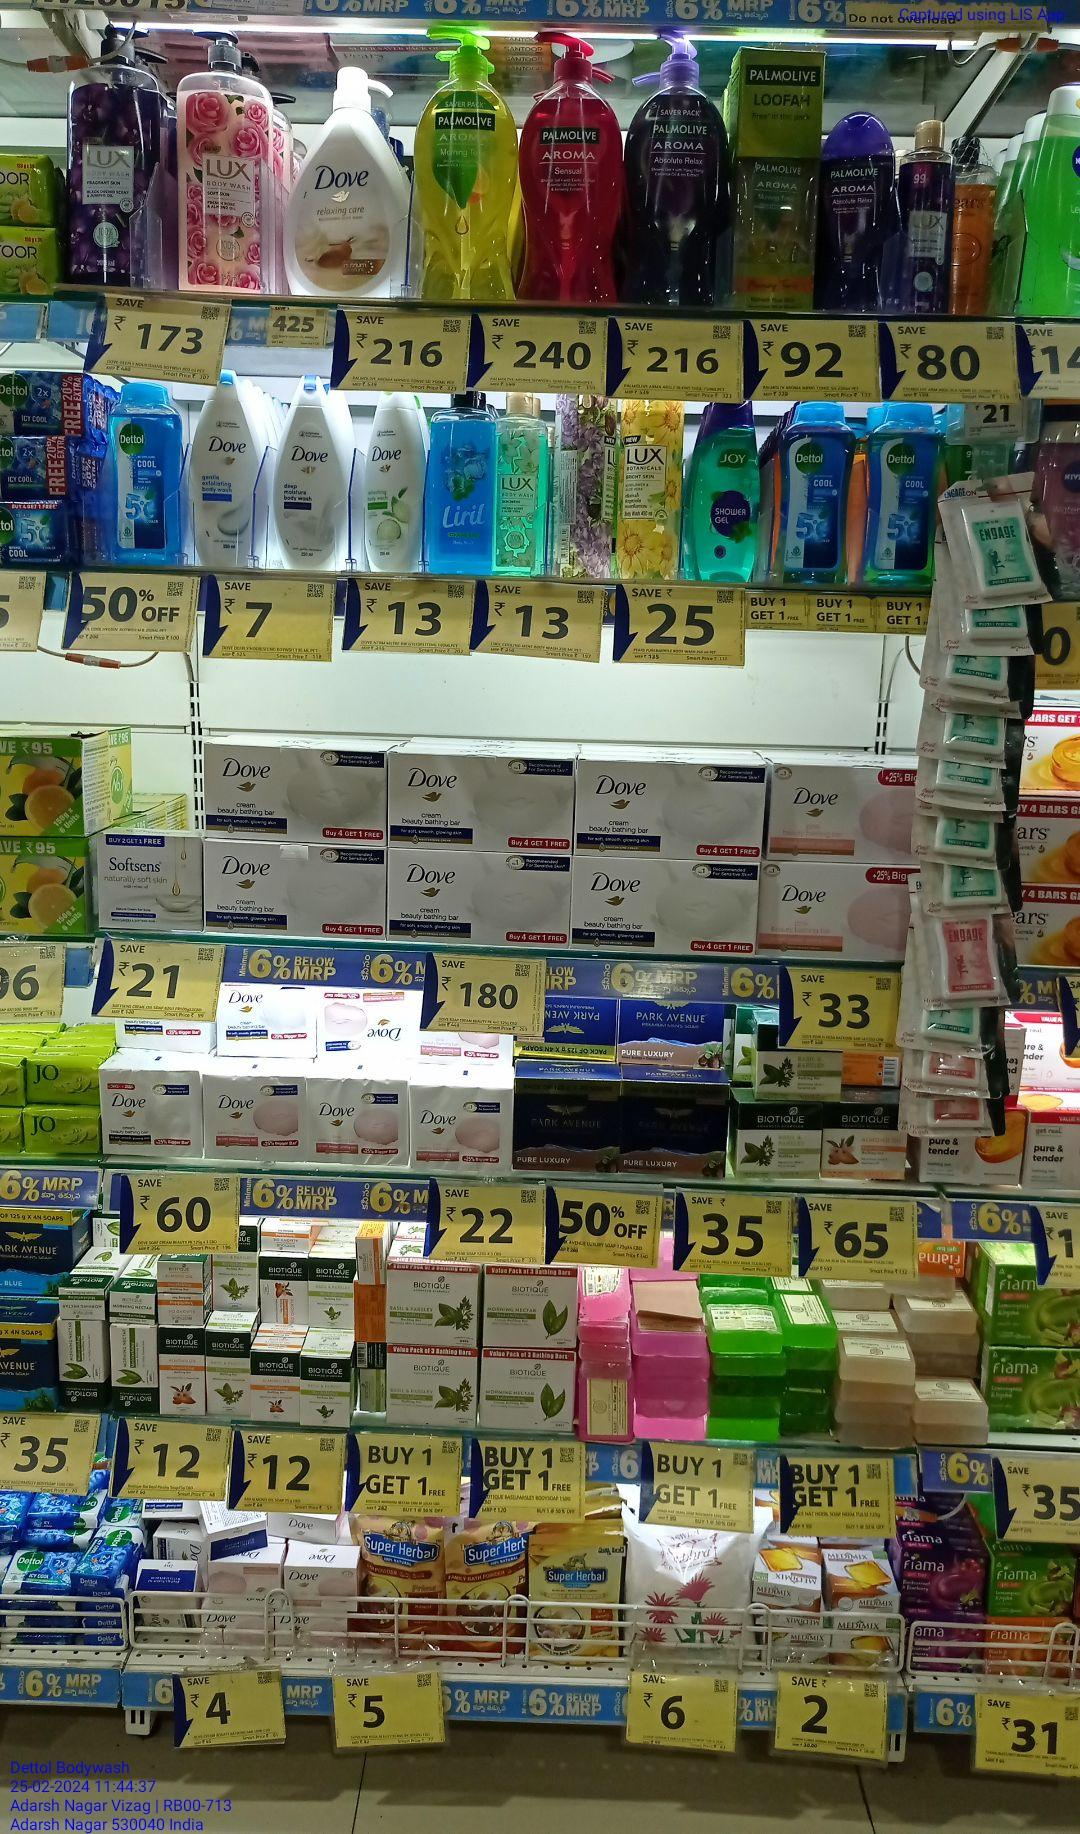Dettol_Bodywash_Cool: (867, 401, 940, 590), (778, 404, 852, 589), (111, 380, 180, 564)
Dove_Deep_Moisture_Body_Wash_250ML: (274, 375, 351, 569)
Dove_Gentle_Exfoliating_Body_Wash_250ML: (188, 375, 262, 569)
Dove_Refreshing_Body_Wash_250ML: (366, 389, 424, 574)
Joy_Shower_Gel_Mint_and_Eucalyptus_250ML: (692, 398, 759, 586)
Liril_Cooling_Mint_Body_Wash_250ML: (431, 388, 496, 577)
Lux_Black_Orchid_Scent_and_Juniper_Oil_Body_Wash_245ML: (904, 120, 960, 316)
Lux_Body_Wash_Skin_Detox_Freesia_Scent_and_Alove_Vera_245ML: (498, 391, 548, 576)
